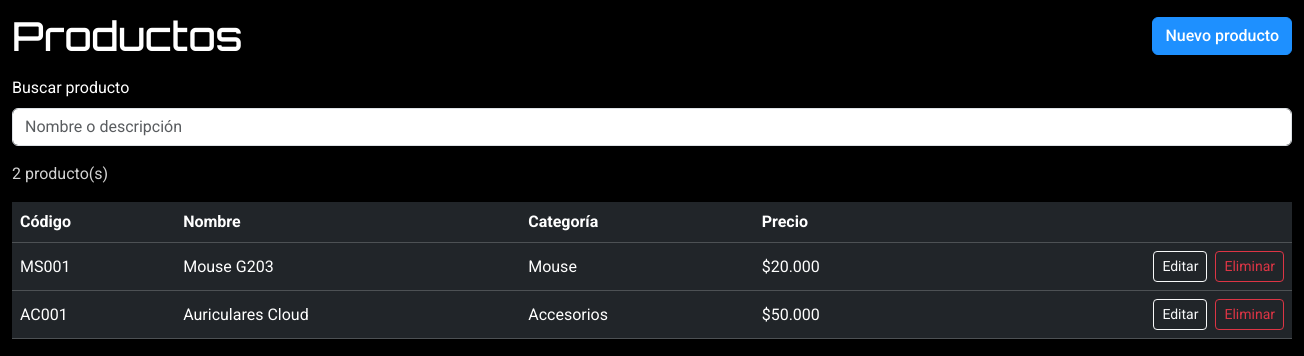
Test: AdminProductosView › filtra la lista al buscar
The image size is (1304, 356).
Type "mouse" into the field labelled "Buscar producto".
click(652, 127); type("mouse")  # box [12,108,1292,146]
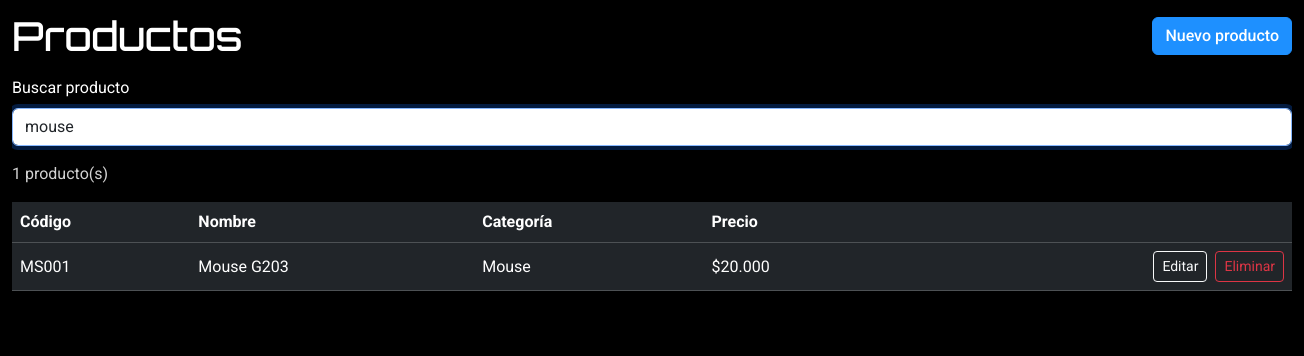
expect the text "1 producto(s)" is shown: met, box [12,164,108,183]
expect the text "Auriculares Cloud" is gone: met
